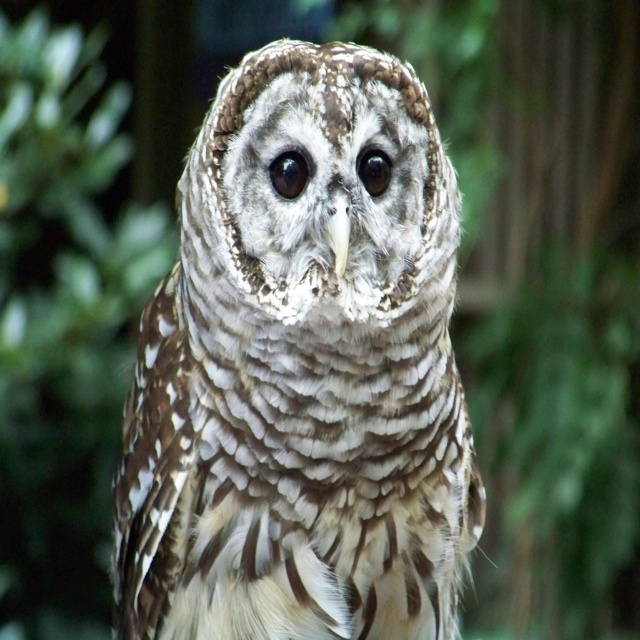Owl: (108, 33, 500, 639)
